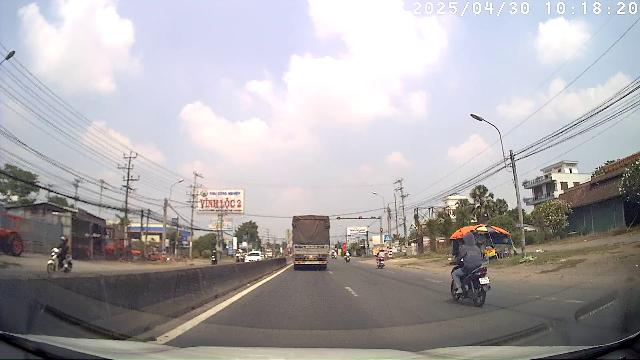423a-duong-nguoi-di-bo-sang-ngang-1: (386, 236, 390, 240)
